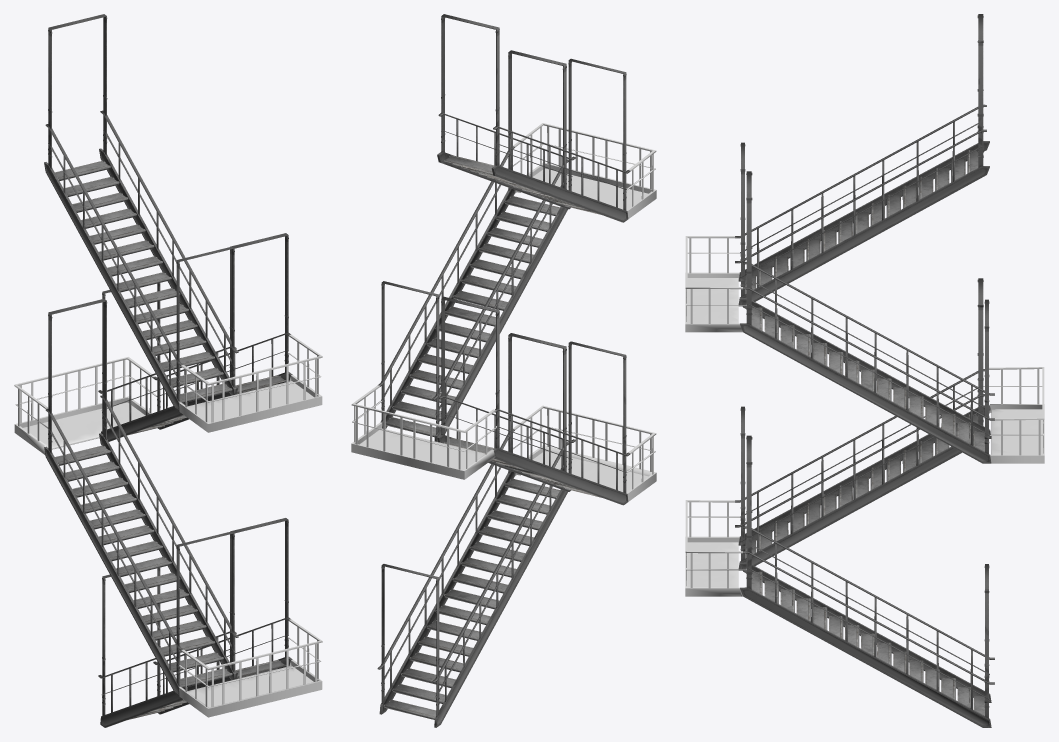
The model's file is fire_escape.glb.
3 renders of one model, left to right at view 1: azimuth 30°, elevation 25°; view 2: azimuth 150°, elevation 25°; view 3: azimuth 270°, elevation 25°, orthographic. The views are drawn at different scales.
Visible parts, largest first — view 1: fire_escape; view 2: fire_escape; view 3: fire_escape.
Part boxes in pixels (x1=…): fire_escape: x1=14, y1=14, x2=322, y2=727; fire_escape: x1=351, y1=14, x2=656, y2=727; fire_escape: x1=685, y1=14, x2=1044, y2=727.
Size of the model in its own units: 3.14 by 18.57 by 9.12.
Materials: 3 (2 with a texture image).
